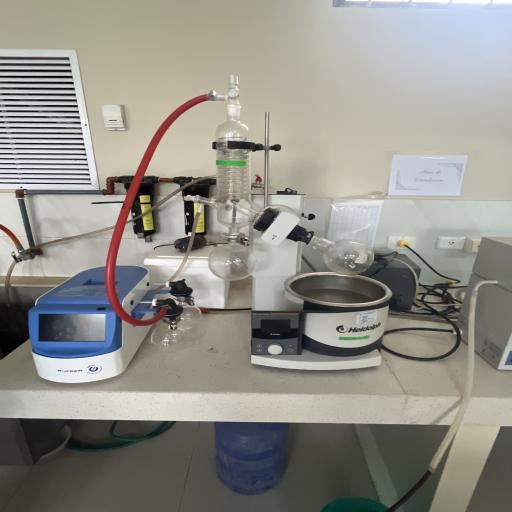Sistema_Rotaevaporacion: (8, 68, 398, 387)
